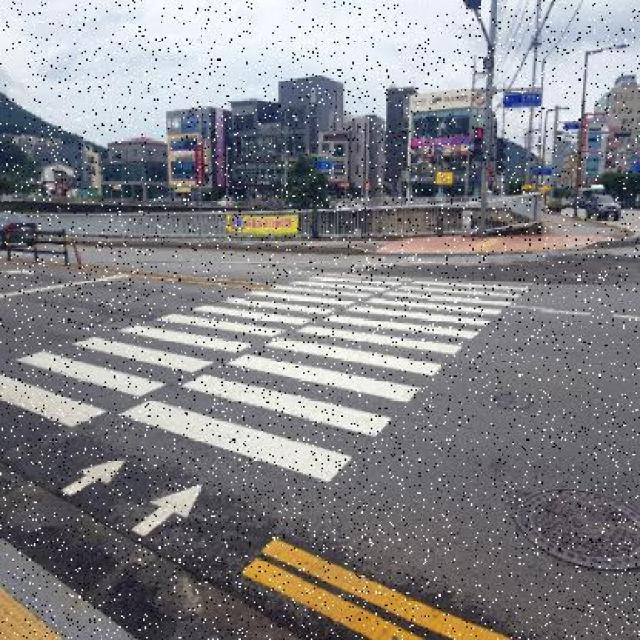crosswalk: (12, 279, 538, 586), (1, 271, 405, 457)
